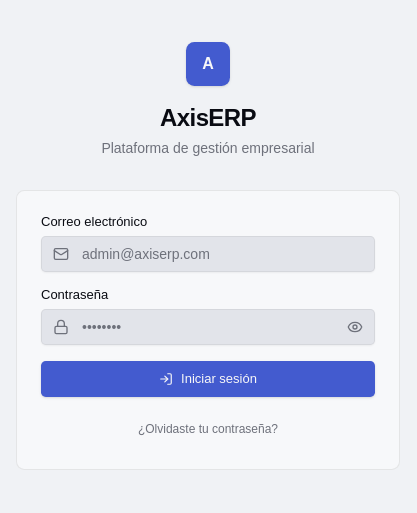
Test: LoginPage › shows validation errors for empty fields on submit
The width and height of the screenshot is (417, 513).
Click the button "Iniciar sesión". click: (208, 379)
box: [41,361,375,397]
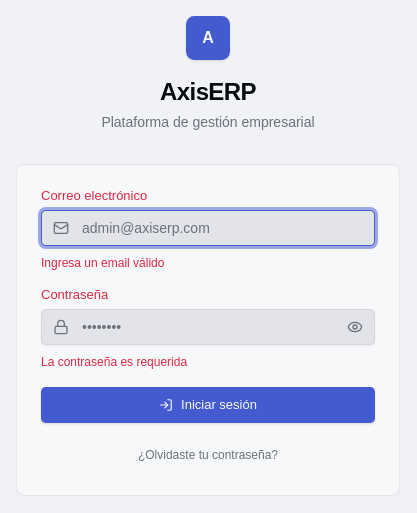
expect the text "Ingresa un email válido" is shown: met, box [41,256,164,270]
expect the text "La contraseña es requerida" is shown: met, box [41,355,187,369]
